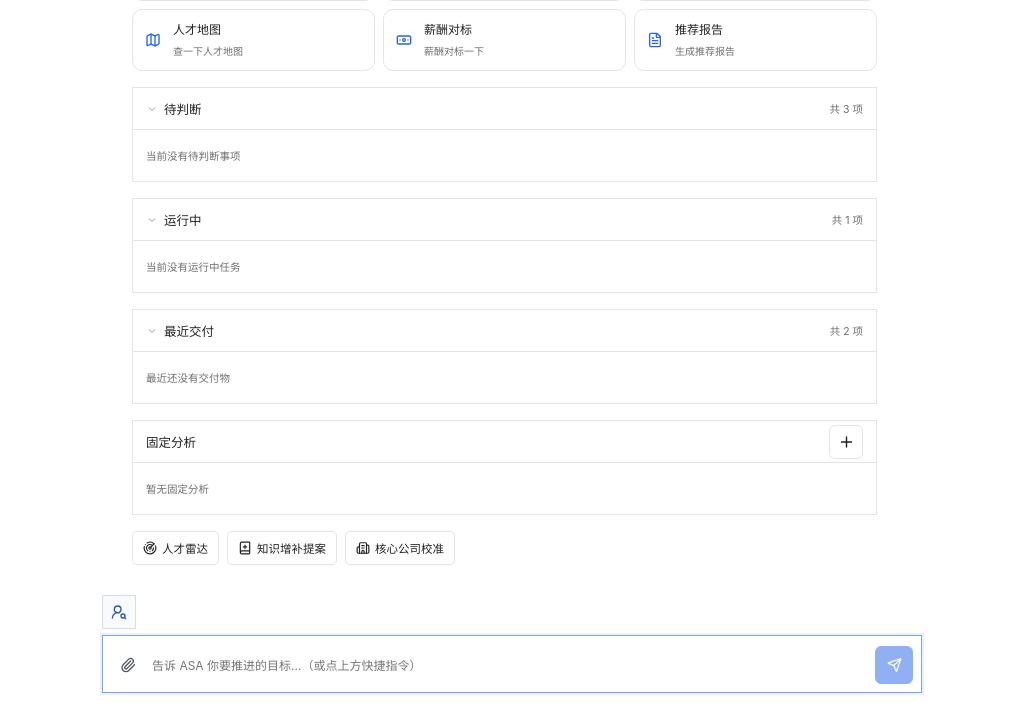
Scenario: Agent workspace › done 事件到达后挂载策略建议卡并默认选中全部建议
This screenshot has width=1024, height=709.
(page scrolled)
Type "把这些建议沉淀进策略" into the text box named "Agent 消息". click: [510, 667]
box: x1=152 y1=650 x2=868 y2=684
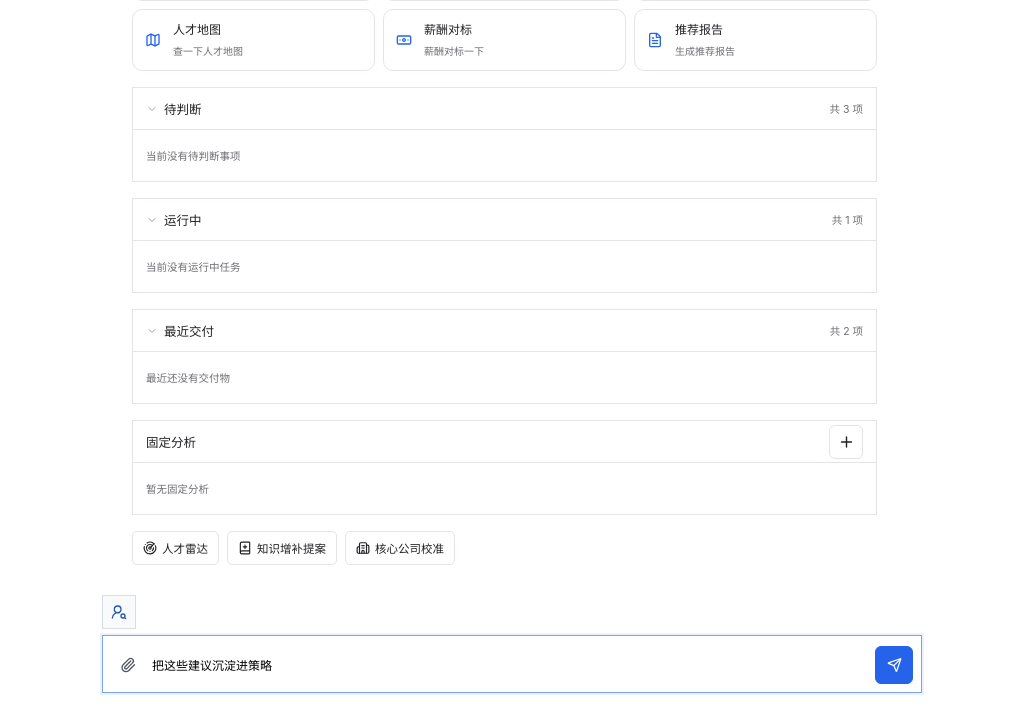
Click the button named "发送". click: [894, 665]
box: x1=875 y1=646 x2=913 y2=684
(page scrolled)
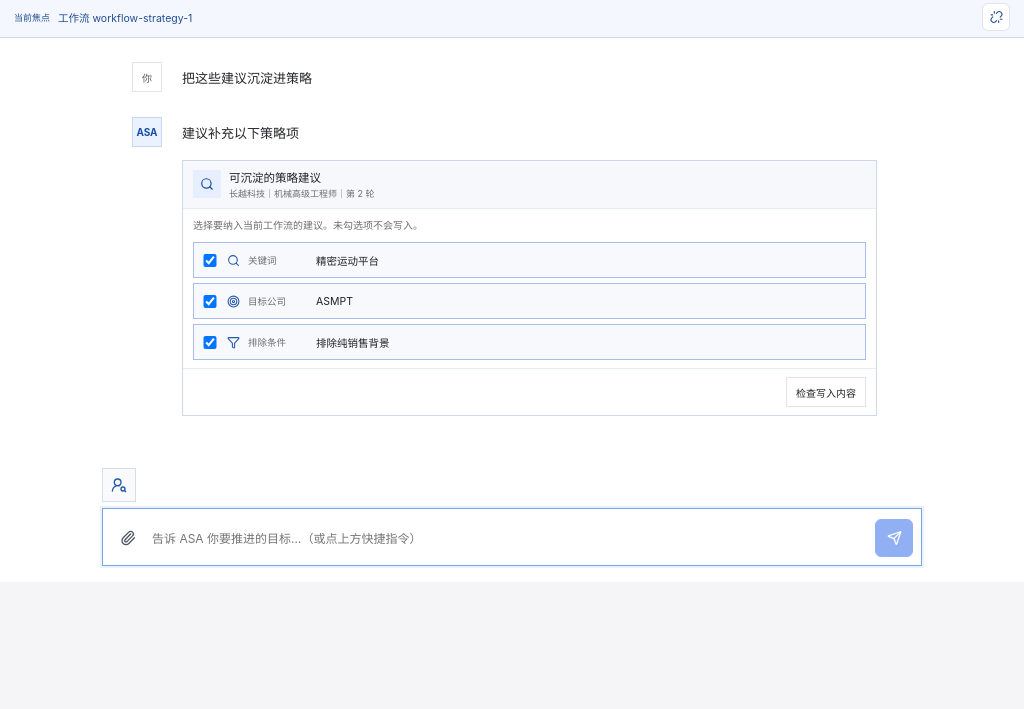
Expected: the number of checkboxes is 3, x1=202 y1=254 x2=218 y2=266; x1=202 y1=294 x2=218 y2=308; x1=202 y1=336 x2=218 y2=348
Expected: the button "检查写入内容" is enabled, x1=786 y1=377 x2=866 y2=407
